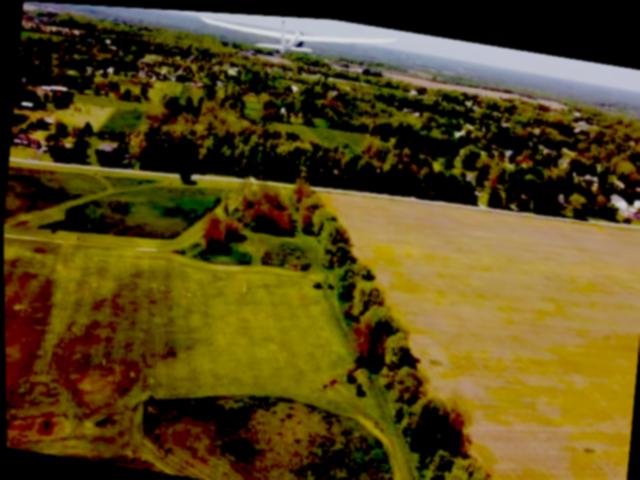uav: (185, 9, 410, 79)
